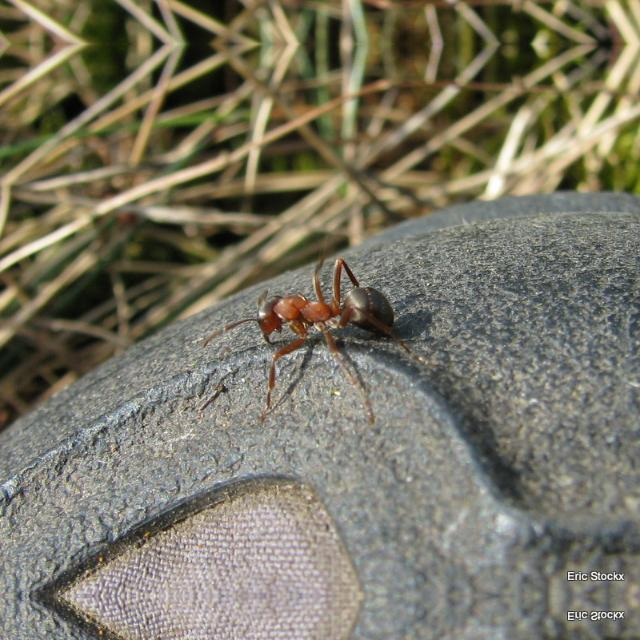Formica: (220, 263, 420, 379)
